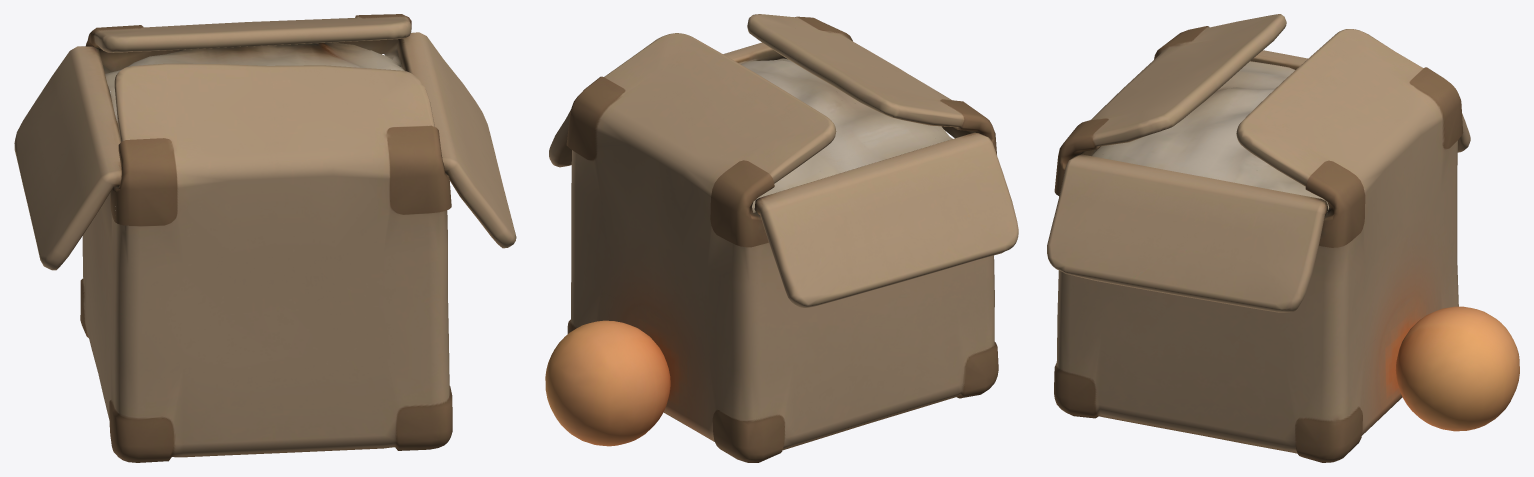
The model's file is warm-box-charm.glb.
The picture shows the model from 3 angles, left to right: view 1: azimuth 30°, elevation 25°; view 2: azimuth 150°, elevation 25°; view 3: azimuth 270°, elevation 25°; orthographic projection. The views are drawn at different scales.
Visible parts, largest first — view 1: tripo_node_0a689ab5-6dfd-43b9-ad43-4a357cd4c107; view 2: tripo_node_0a689ab5-6dfd-43b9-ad43-4a357cd4c107; view 3: tripo_node_0a689ab5-6dfd-43b9-ad43-4a357cd4c107.
Boxes of the visible parts, <box> form: tripo_node_0a689ab5-6dfd-43b9-ad43-4a357cd4c107: <box>14,14,516,462</box>; tripo_node_0a689ab5-6dfd-43b9-ad43-4a357cd4c107: <box>545,14,1018,462</box>; tripo_node_0a689ab5-6dfd-43b9-ad43-4a357cd4c107: <box>1047,14,1519,462</box>.
Bounding box in the file's own units: 1.12 × 0.7876 × 1.06.
1 material, 1 textured.
